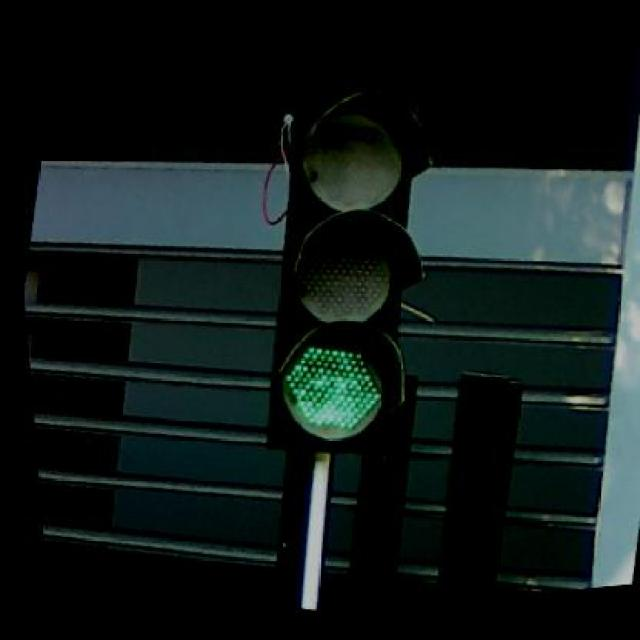green_light: (217, 84, 460, 482)
